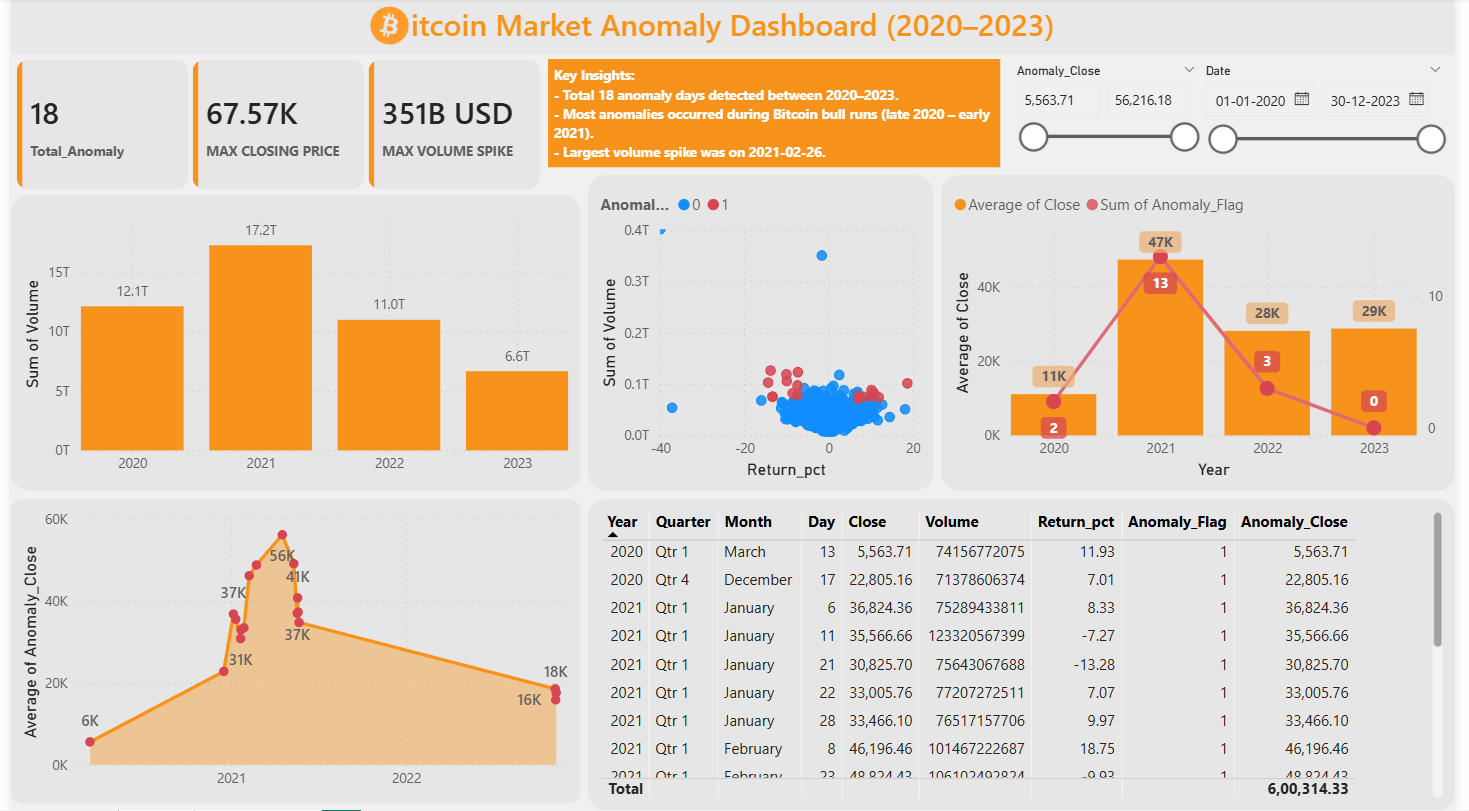

What the dashboard file says about the page in this screenshot:
{"tool":"powerbi","page":{"name":"Page 1","canvas":[1280,720],"ordinal":0},"visuals":[{"type":"textbox","box":[0,0,1280,49.6],"z":0},{"type":"image","box":[312.1,0,47,49.7],"z":1000},{"type":"lineStackedColumnComboChart","fields":{"Category":["anomalies_btc.Date.Variation.Date Hierarchy.Year","anomalies_btc.Date.Variation.Date Hierarchy.Quarter","anomalies_btc.Date.Variation.Date Hierarchy.Month","anomalies_btc.Date.Variation.Date Hierarchy.Day"],"Y":["Avg(anomalies_btc.Close)"],"Y2":["Sum(anomalies_btc.Anomaly_Flag)"]},"box":[824.6,156.9,455.8,280.2],"z":2000},{"type":"columnChart","fields":{"Category":["anomalies_btc.Date.Variation.Date Hierarchy.Year","anomalies_btc.Date.Variation.Date Hierarchy.Quarter","anomalies_btc.Date.Variation.Date Hierarchy.Month","anomalies_btc.Date.Variation.Date Hierarchy.Day"],"Y":["Sum(anomalies_btc.Volume)"]},"box":[0,174.7,505.4,262.5],"z":3000},{"type":"cardVisual","fields":{"Data":["anomalies_btc.Total_Anomaly","anomalies_btc.MAX CLOSING PRICE","anomalies_btc.MAX VOLUME SPIKE"]},"box":[0,49.7,476.2,125],"z":4000},{"type":"lineChart","fields":{"Category":["anomalies_btc.Date.Variation.Date Hierarchy.Year","anomalies_btc.Date.Variation.Date Hierarchy.Quarter","anomalies_btc.Date.Variation.Date Hierarchy.Month","anomalies_btc.Date.Variation.Date Hierarchy.Day"],"Y":["Avg(anomalies_btc.Anomaly_Close)"]},"box":[0,444.2,505.4,269.6],"z":5000},{"type":"textbox","box":[476.2,54.1,400.8,95.8],"z":6000},{"type":"tableEx","fields":{"Values":["anomalies_btc.Date.Variation.Date Hierarchy.Year","anomalies_btc.Date.Variation.Date Hierarchy.Quarter","anomalies_btc.Date.Variation.Date Hierarchy.Month","anomalies_btc.Date.Variation.Date Hierarchy.Day","anomalies_btc.Close","anomalies_btc.Volume","anomalies_btc.Return_pct","anomalies_btc.Anomaly_Flag","Sum(anomalies_btc.Anomaly_Close)"]},"box":[511.6,444.2,768.8,275.8],"z":7000},{"type":"slicer","fields":{"Values":["anomalies_btc.Date"]},"box":[1046.3,53.2,234.1,92.2],"z":8000},{"type":"slicer","fields":{"Values":["anomalies_btc.Anomaly_Close"]},"box":[878.7,53.2,183.5,96.7],"z":9000},{"type":"scatterChart","fields":{"X":["anomalies_btc.Return_pct"],"Y":["Sum(anomalies_btc.Volume)"],"Series":["anomalies_btc.Anomaly_Flag"]},"box":[511.6,156.9,305.9,280.2],"z":10000}]}

Visuals, with their boxes in screenshot pixels (x1, y1, x2, y2), scaled from the page's 1280x720 canvas onto the 1469x811 screenshot:
textbox: Rect(0, 0, 1468, 56)
image: Rect(358, 0, 412, 56)
lineStackedColumnComboChart - anomalies_btc.Date.Variation.Date Hierarchy.Year x anomalies_btc.Date.Variation.Date Hierarchy.Quarter: Rect(946, 177, 1468, 492)
columnChart - anomalies_btc.Date.Variation.Date Hierarchy.Year x anomalies_btc.Date.Variation.Date Hierarchy.Quarter: Rect(0, 197, 580, 492)
cardVisual - anomalies_btc.Total_Anomaly x anomalies_btc.MAX CLOSING PRICE: Rect(0, 56, 547, 197)
lineChart - anomalies_btc.Date.Variation.Date Hierarchy.Year x anomalies_btc.Date.Variation.Date Hierarchy.Quarter: Rect(0, 500, 580, 804)
textbox: Rect(547, 61, 1006, 169)
tableEx - anomalies_btc.Date.Variation.Date Hierarchy.Year x anomalies_btc.Date.Variation.Date Hierarchy.Quarter: Rect(587, 500, 1468, 810)
slicer - anomalies_btc.Date: Rect(1201, 60, 1468, 164)
slicer - anomalies_btc.Anomaly_Close: Rect(1008, 60, 1219, 169)
scatterChart - anomalies_btc.Return_pct x Sum(anomalies_btc.Volume): Rect(587, 177, 938, 492)
